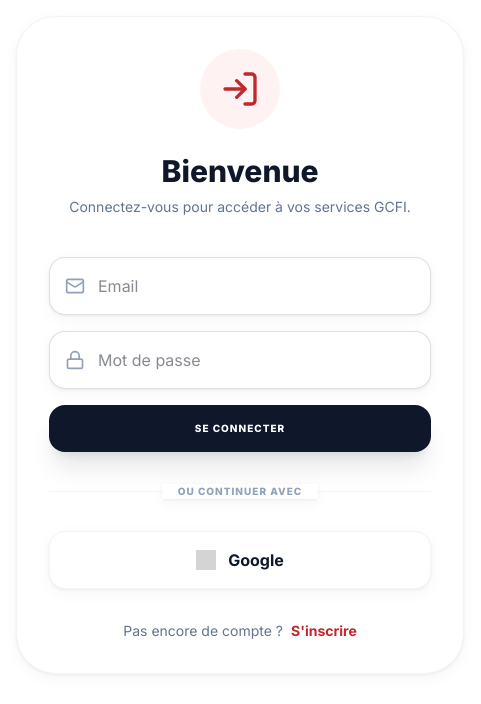
Test: ProfileModule — verrouillage après trop d’échecs › affiche le délai restant et désactive le bouton quand le serveur verrouille
This screenshot has width=481, height=704.
Type "client@gcfi.test" into the field with placeholder "Email" at (240, 286), box x1=49 y1=257 x2=431 y2=315
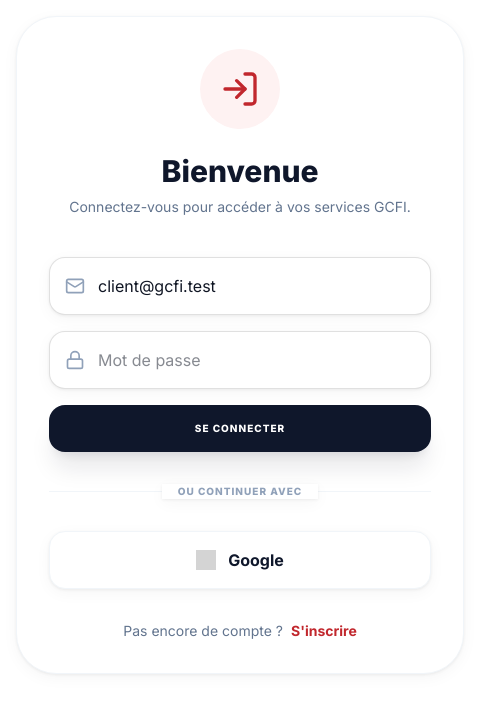
Type "MauvaisMotDePasse1!" into the password field with placeholder "Mot de passe" at (240, 360), box x1=49 y1=331 x2=431 y2=389
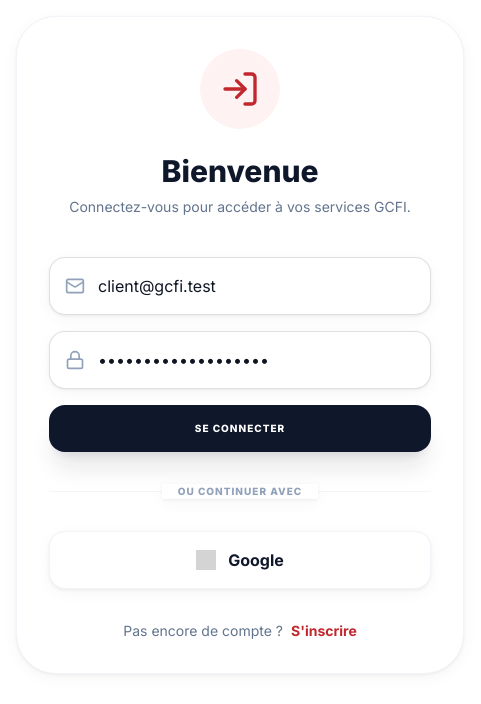
Submit the form, box x1=49 y1=257 x2=431 y2=452
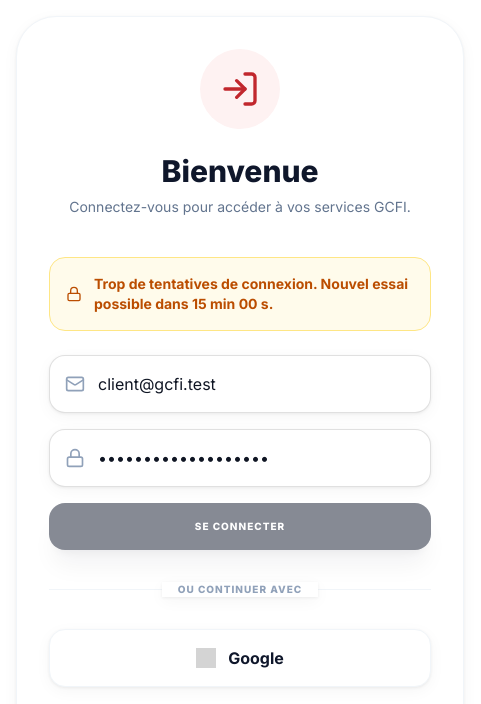
Now the text "Nouvel essai possible dans 15 min 00 s" is shown, box x1=94 y1=275 x2=408 y2=312
Now the submit button is disabled, box x1=49 y1=503 x2=431 y2=550
